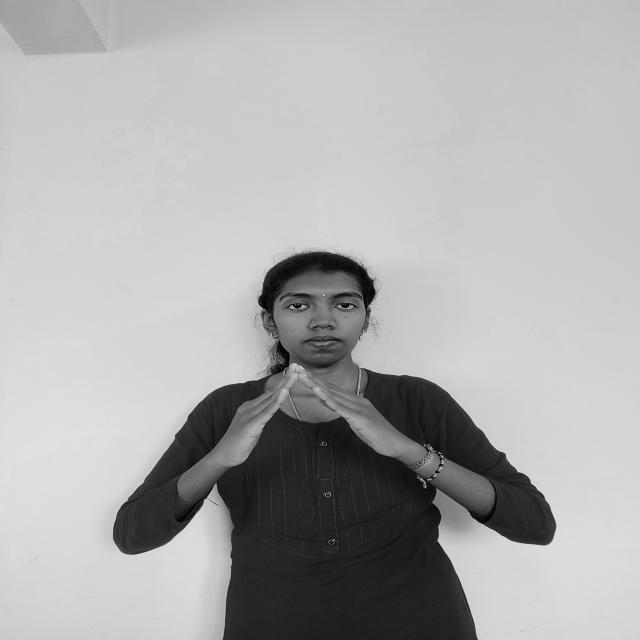Home: (193, 357, 413, 477)
